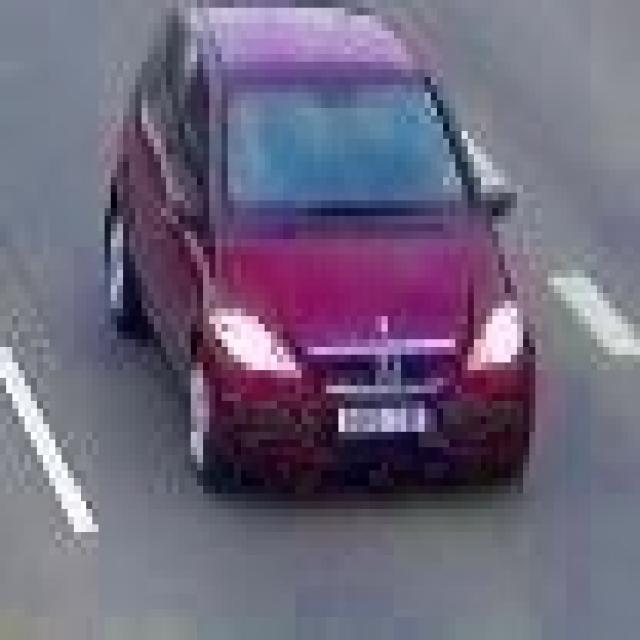maroon: (96, 3, 544, 490)
